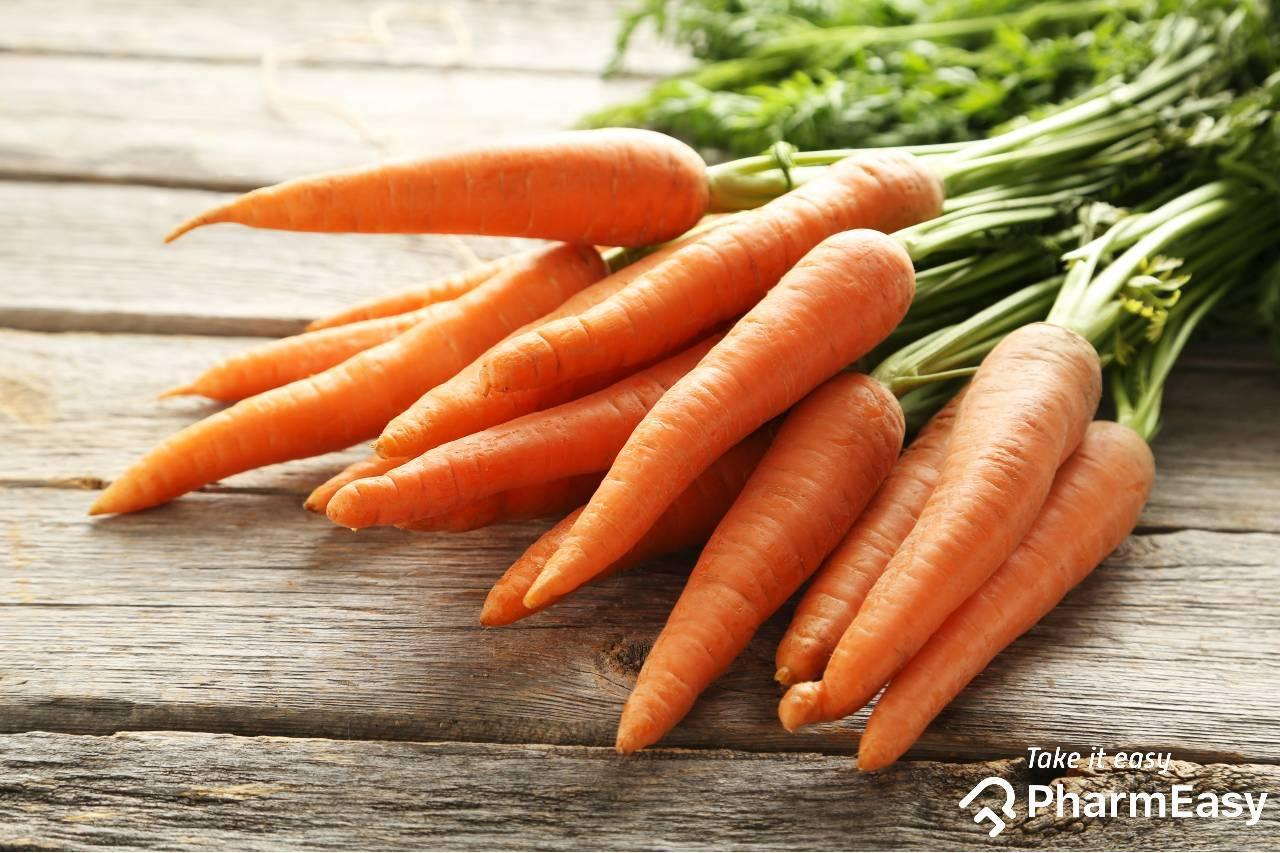carrot: (73, 228, 931, 738), (538, 233, 1182, 743), (162, 150, 708, 252)
